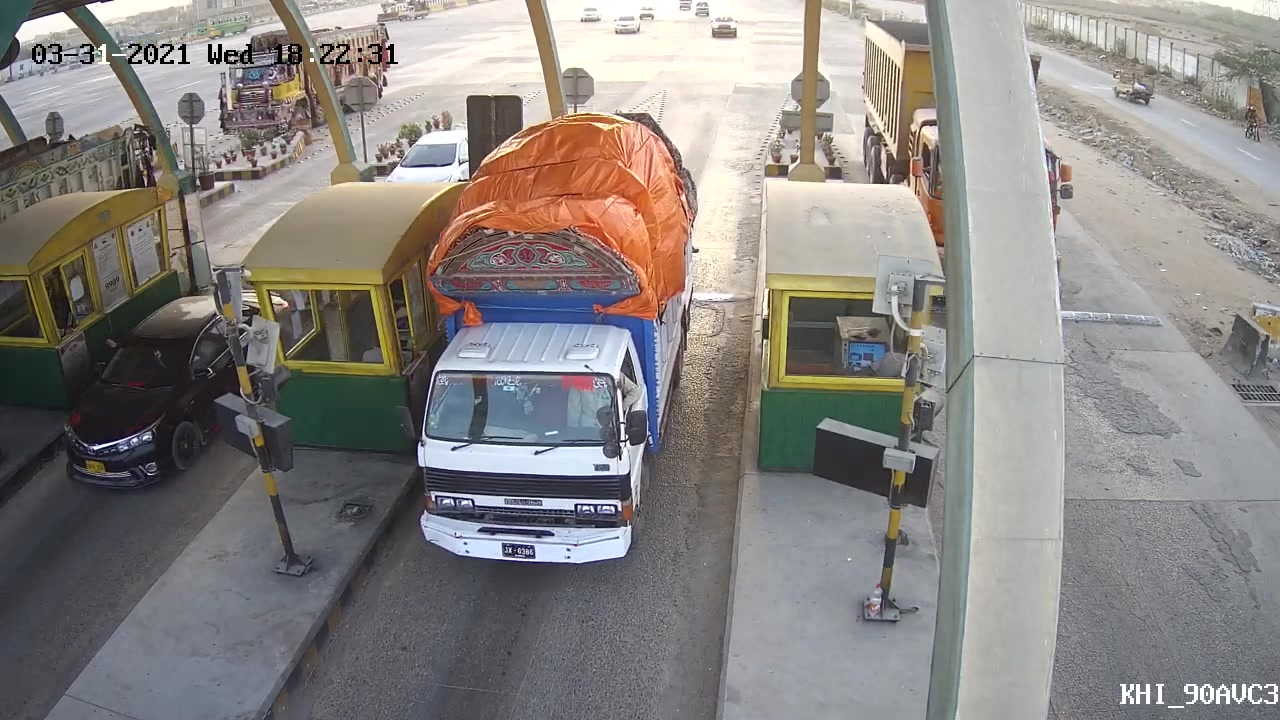F5: (386, 115, 720, 568)
